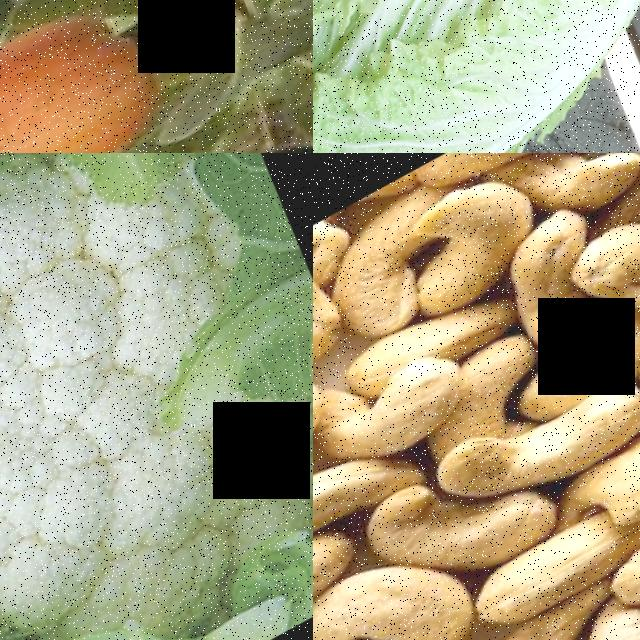cabbage: (313, 0, 640, 153)
cashew: (429, 364, 640, 549), (465, 202, 640, 385), (320, 326, 501, 479), (390, 173, 541, 323), (108, 0, 252, 108), (313, 422, 426, 559), (313, 536, 448, 640), (574, 198, 640, 378), (408, 153, 591, 208), (313, 225, 366, 404), (594, 462, 640, 640), (437, 594, 596, 640)
cauliflower: (0, 153, 313, 640)
